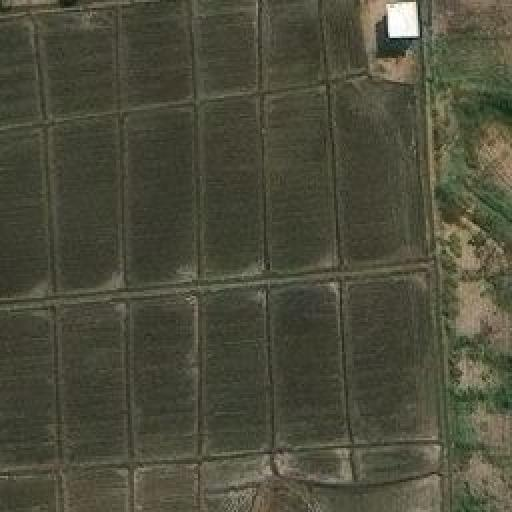manzanas: (377, 0, 424, 56)
